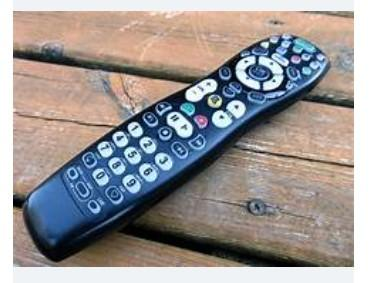Remote control: (21, 33, 331, 264)
